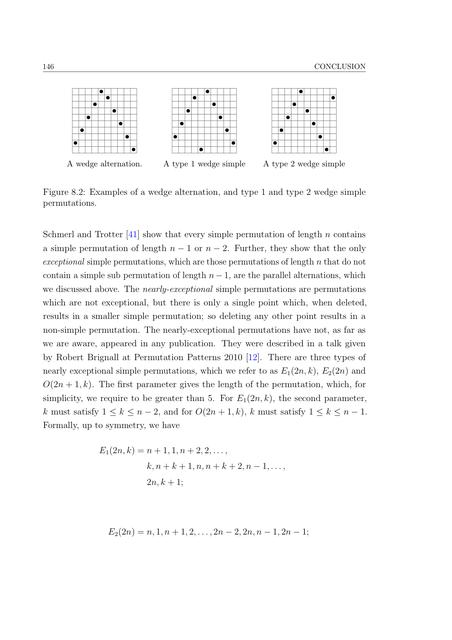box: (68, 86, 350, 170)
